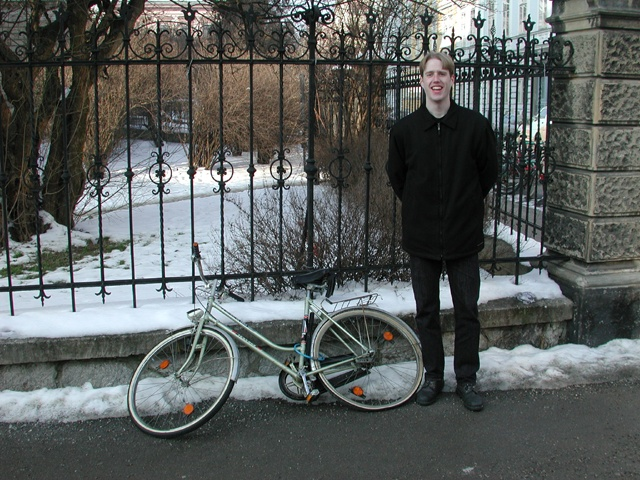person: (384, 46, 494, 414)
